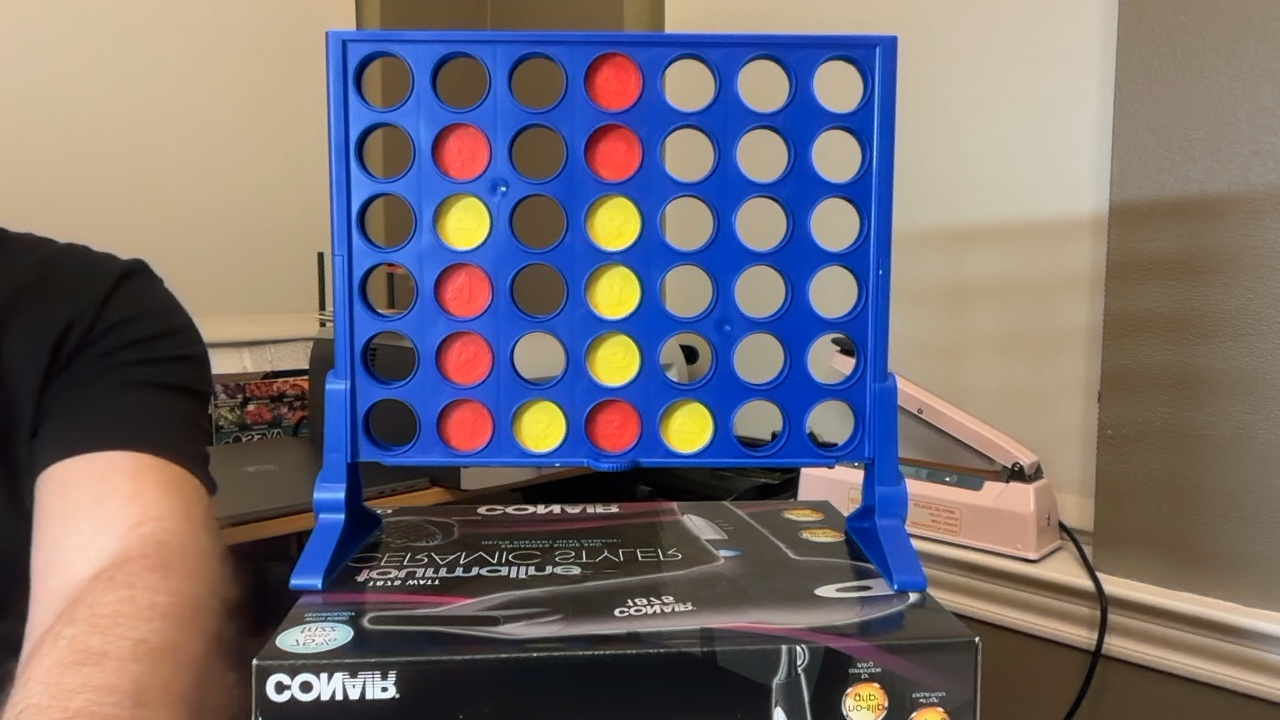red piece: (585, 52, 642, 111), (433, 123, 490, 181), (585, 123, 641, 181), (435, 263, 491, 319), (436, 331, 492, 386), (585, 399, 640, 453), (437, 399, 493, 452)
yellow piece: (586, 194, 641, 250), (435, 194, 490, 250), (586, 264, 640, 319), (659, 399, 713, 453), (586, 332, 640, 386), (512, 399, 566, 452)
